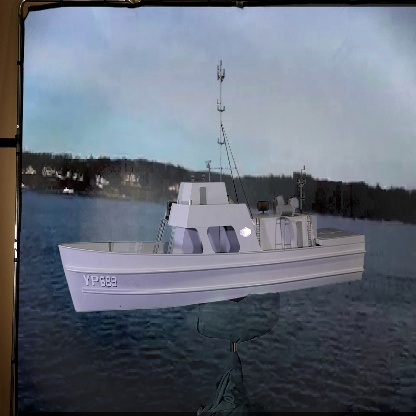YP689: (56, 67, 366, 314)
